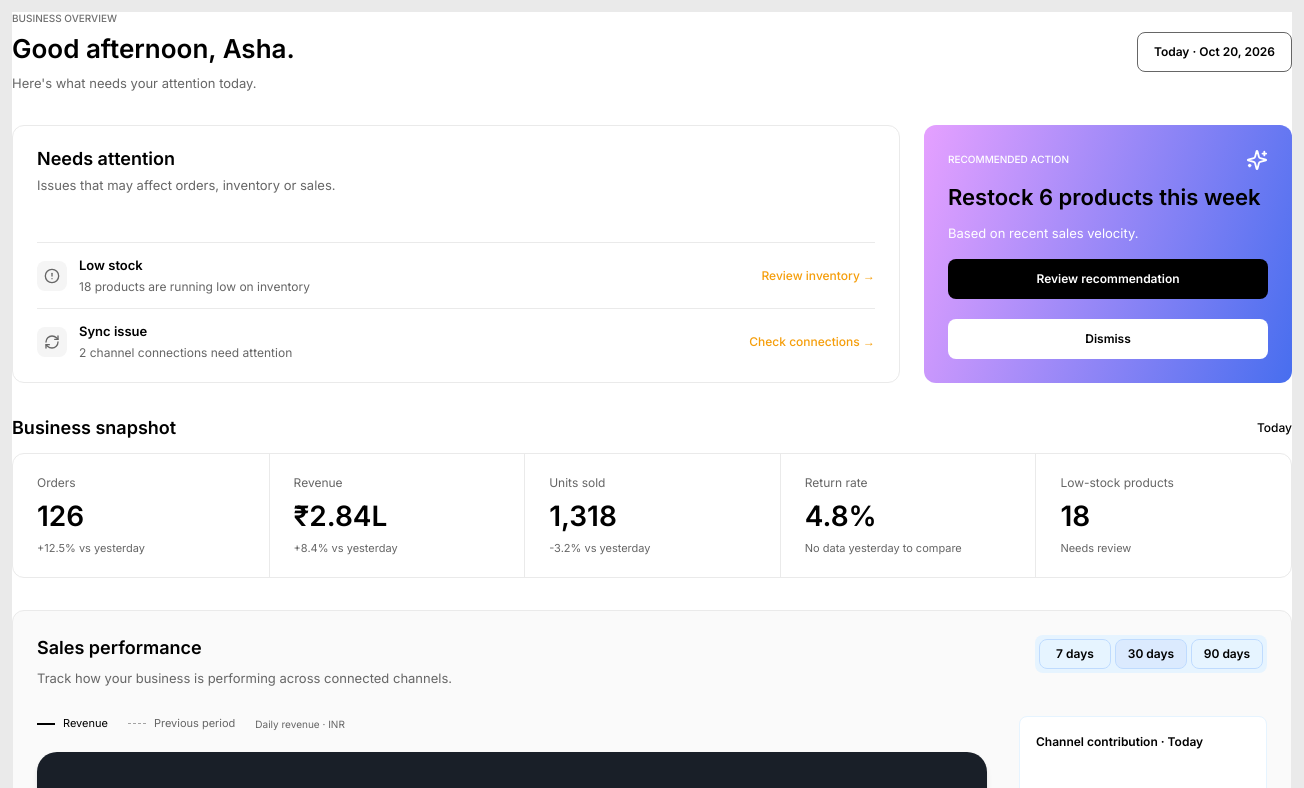
Scenario: DashboardPage › keeps the recommendation and says so when dismiss fails
Step 1. Click the button "Dismiss" → (1108, 339), box [948,319,1268,359]
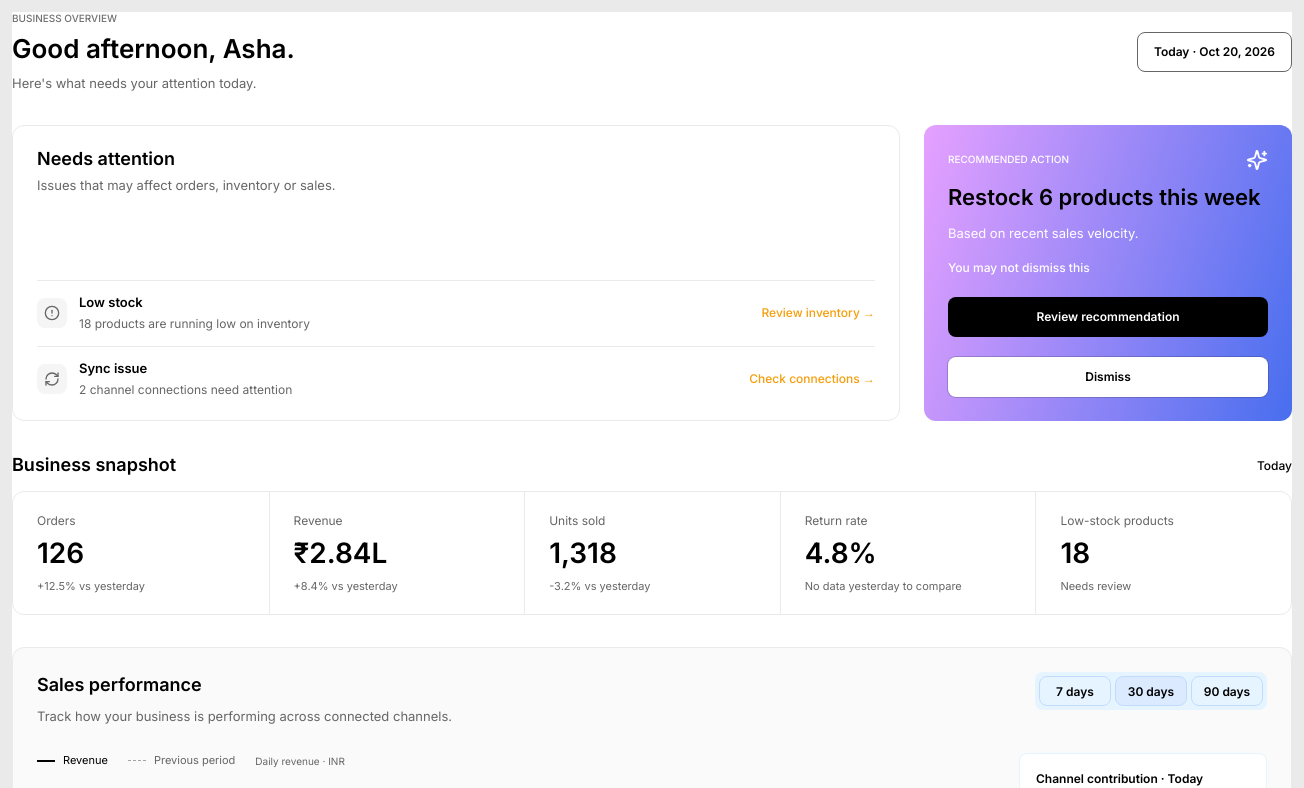
Check: the heading "Restock 6 products this week" is shown, box [948,182,1268,212]
Check: the text "You may not dismiss this" is shown, box [948,260,1090,275]
